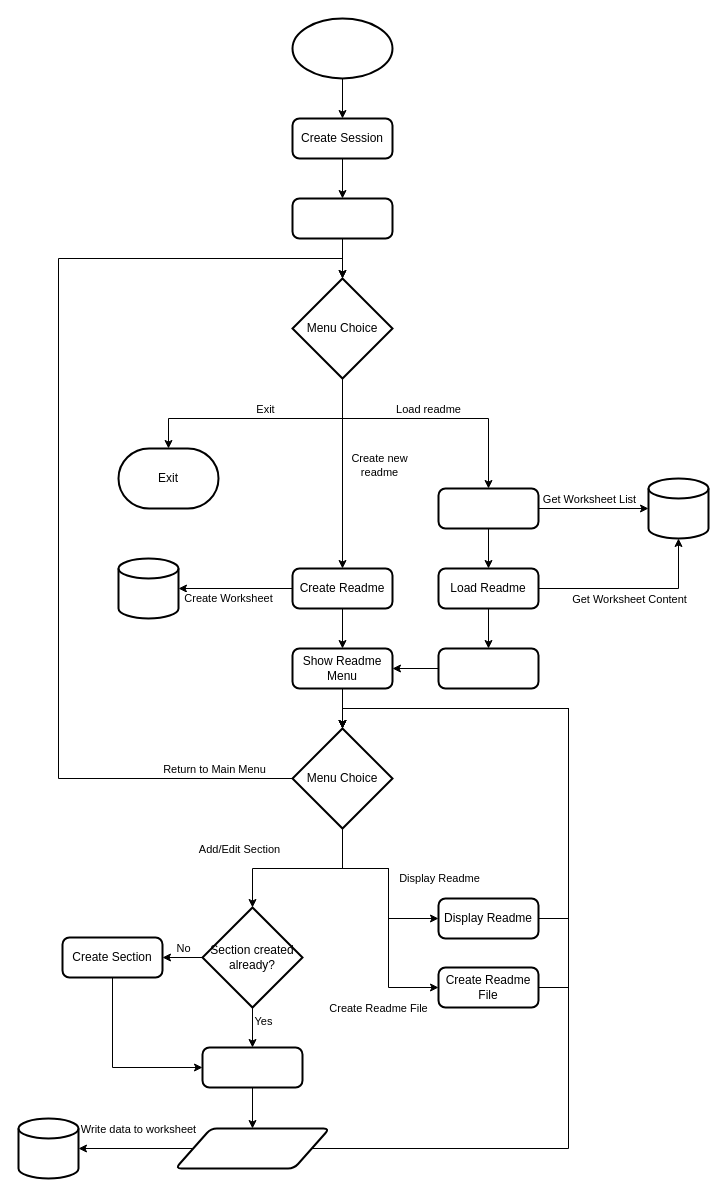
This 726x1196 diagram has some shape labels left out. Each missing label, with the centre of its shape:
"Choose Readme to load" goes at point 488,508.
"Display Section Menu" goes at point 252,1067.
"Load Readme Sections" goes at point 488,668.
"Populate Section Data" goes at point 252,1148.
"Show session menu" goes at point 342,218.
"Start" goes at point 342,48.
